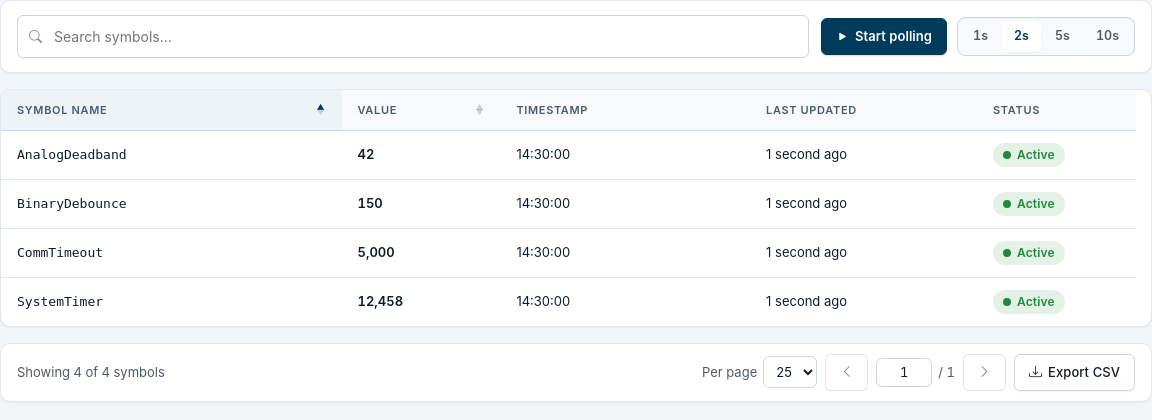
Test case: SymbolsDashboard › shows the empty state when search matches nothing
In the search field with placeholder "Search symbols…": (413, 36) [17, 15, 809, 58], type "zzzzzzz"
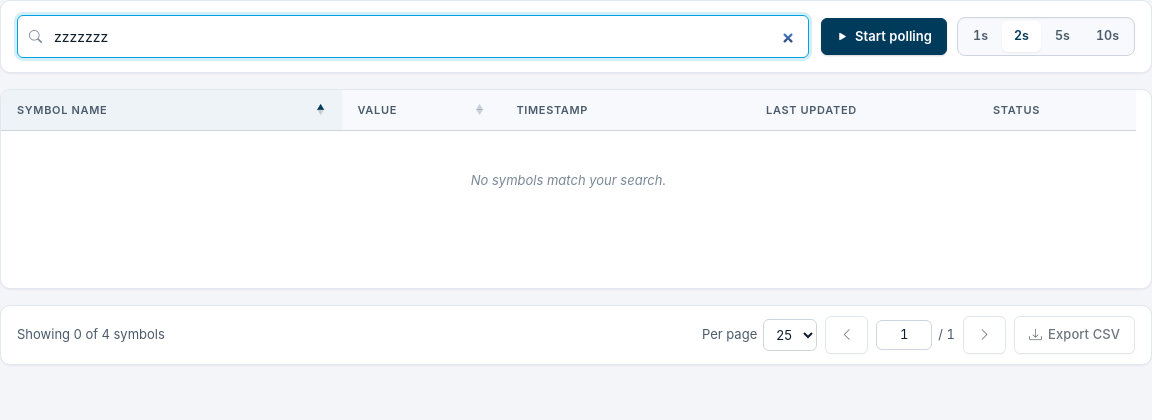
Expected: the text "No symbols match your search." is shown, [1, 130, 1136, 230]
